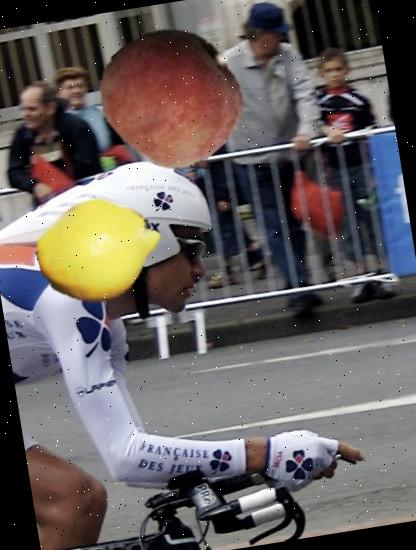Peach: (94, 16, 254, 176)
Quince: (29, 178, 171, 320)
